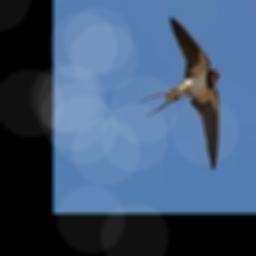Swallow: (139, 16, 221, 170)
